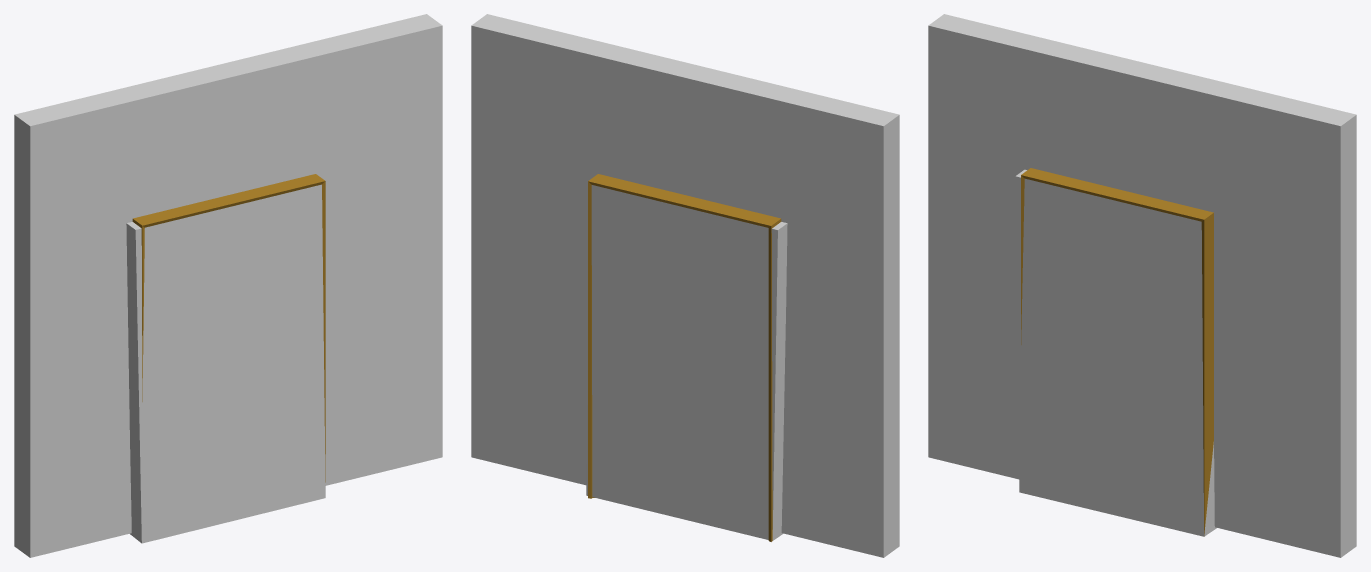
Rendered from room1_2doors8.fbx.
The picture shows the model from 3 angles, left to right: view 1: azimuth 30°, elevation 25°; view 2: azimuth 150°, elevation 25°; view 3: azimuth 330°, elevation 25°; orthographic projection.
Visible parts, largest first — view 1: Cube.001, Cube.003, Cube.002; view 2: Cube.001, Cube.003, Cube.002; view 3: Cube.001, Cube.003, Cube.002.
Boxes of the visible parts, <box> form: Cube.001: <box>14,14,442,557</box>; Cube.003: <box>126,184,325,543</box>; Cube.002: <box>132,174,325,482</box>; Cube.001: <box>471,14,899,557</box>; Cube.003: <box>586,185,787,540</box>; Cube.002: <box>588,174,781,541</box>; Cube.001: <box>928,14,1356,557</box>; Cube.003: <box>1015,169,1216,536</box>; Cube.002: <box>1021,168,1213,536</box>.
Bounding box in the file's own units: 300 × 302 × 45.87.
